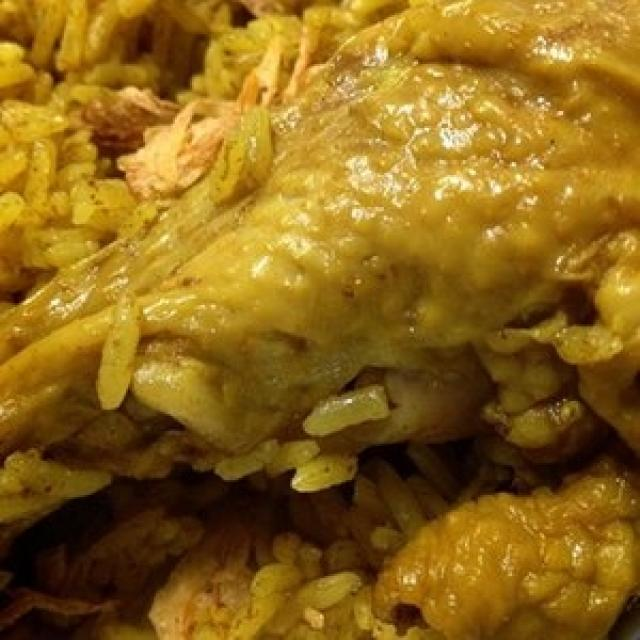米饭主食: (4, 13, 627, 621)
